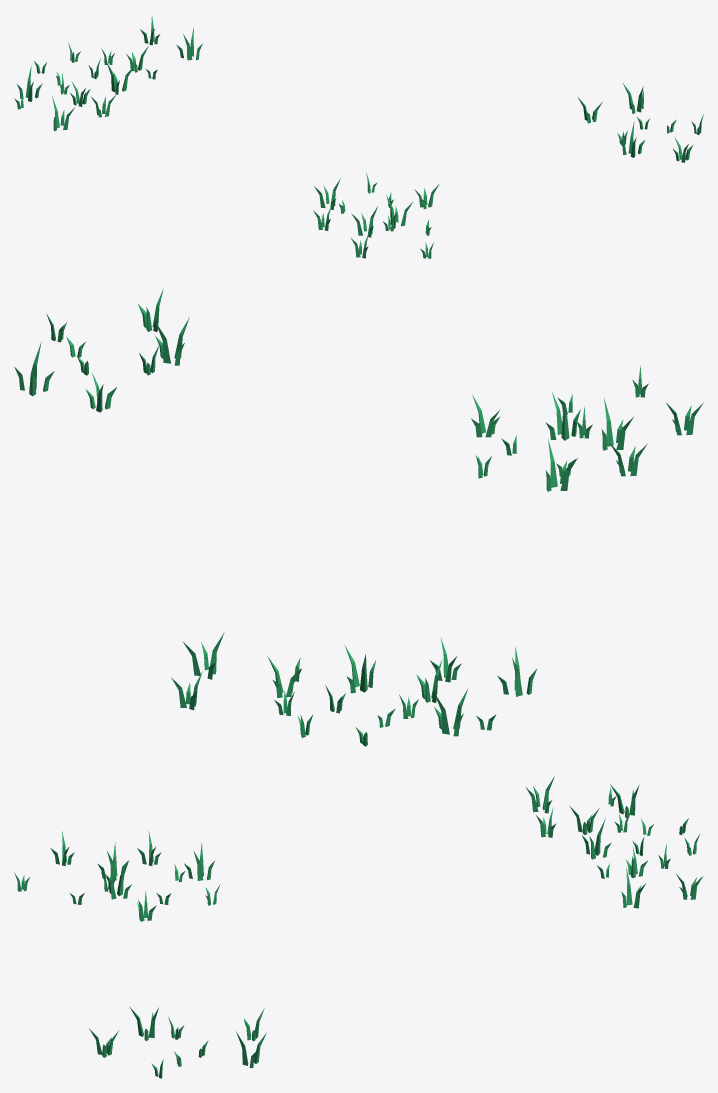
Rendered from grass.glb.
3 renders of one model, top to bottom at view 1: azimuth 30°, elevation 25°; view 2: azimuth 150°, elevation 25°; view 3: azimuth 270°, elevation 25°, orthographic. The views are drawn at different scales.
Size of the model in its own units: 116 by 6.54 by 121.
